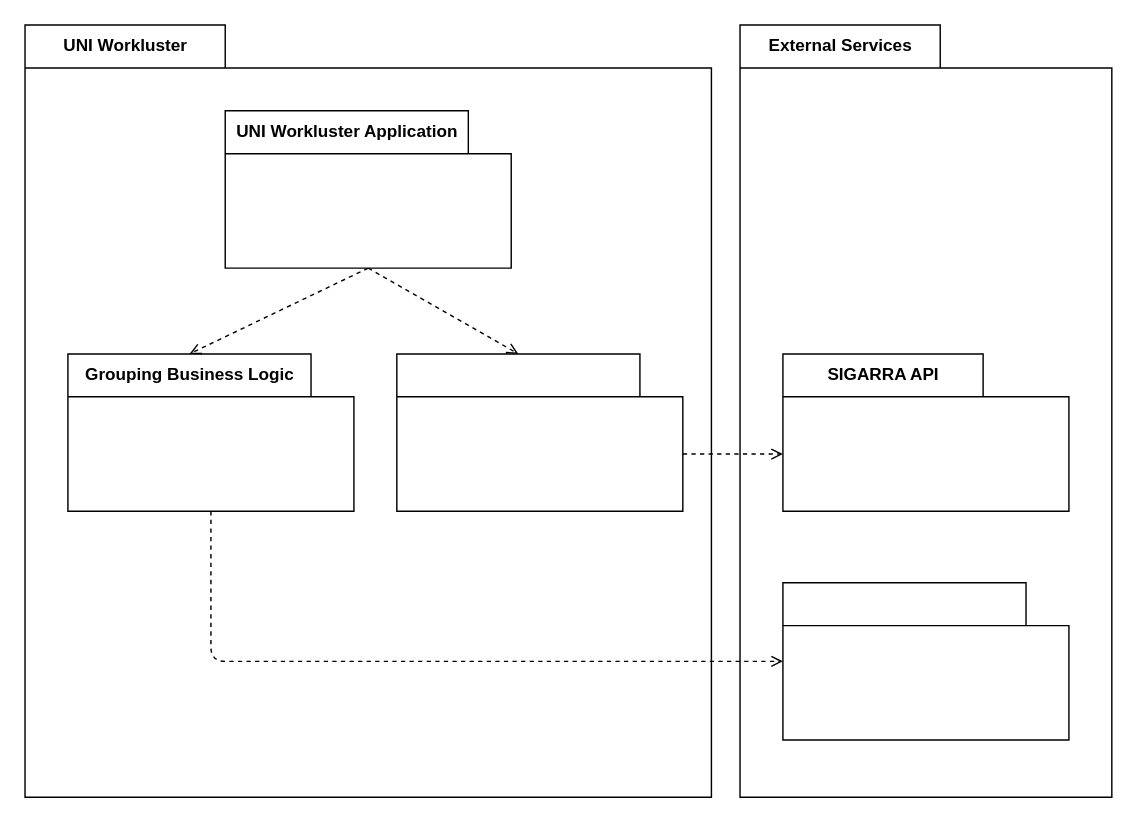
This 1137x822 diagram has some shape labels left out. The shapes that lost their labels are listed below. From the top down, each one's box as (x1, y1, x2, y2) in pixels, then its label:
(395, 352, 683, 511): Schedule Business Logic
(781, 581, 1069, 740): Groups' Database API
